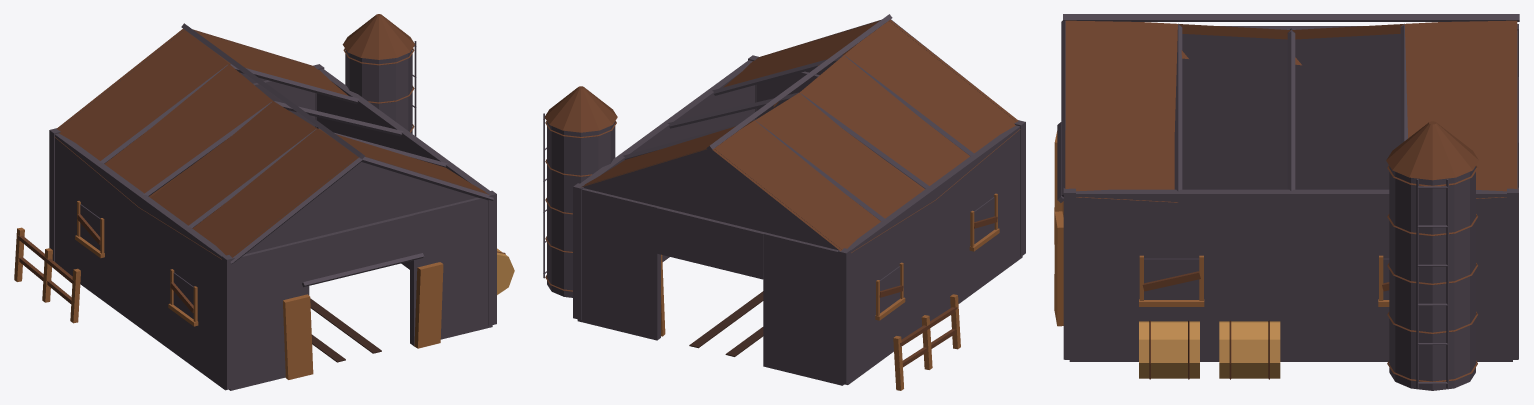
Rendered from bld.farm-barn-ruin.burned.lod1.glb.
3 views of the same model, side by side, from view 1: azimuth 30°, elevation 25°; view 2: azimuth 150°, elevation 25°; view 3: azimuth 270°, elevation 25° (orthographic). The views are drawn at different scales.
Parts seen in each view (by area): view 1: body; view 2: body; view 3: body.
Boxes of the visible parts, x1,y1,x2,y2 form: body: (14,14,514,390); body: (543,14,1025,390); body: (1054,14,1519,390).
Size of the model in its own units: 9.95 by 5.27 by 8.4.
